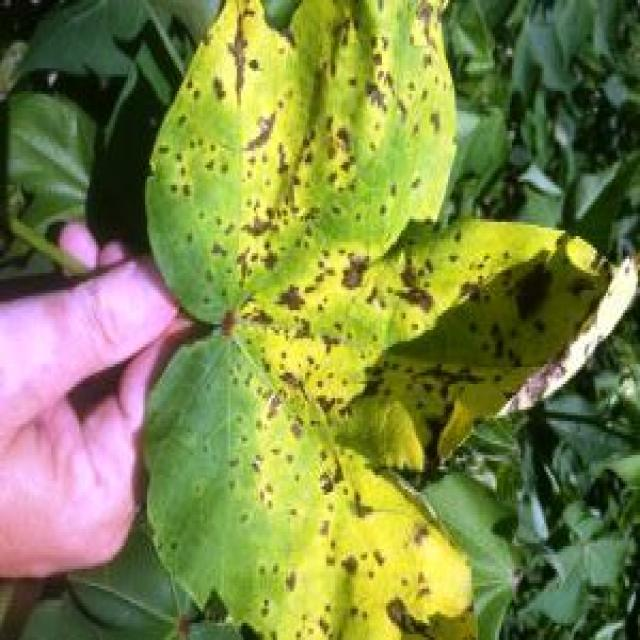Bacterial Blight: (228, 125, 422, 492)
